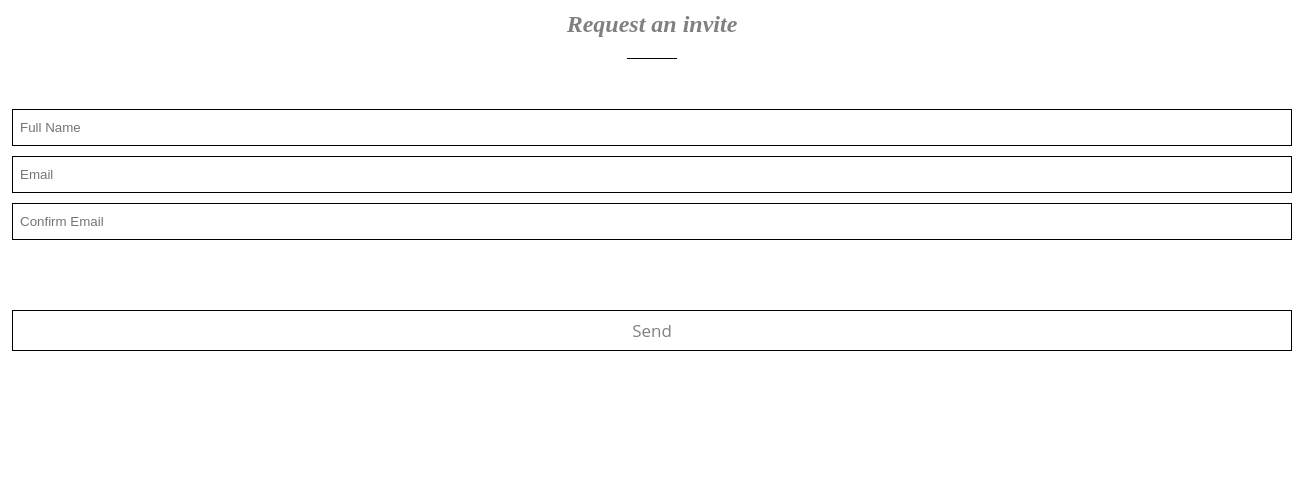
Test: RequestInviteForm › shows error message when name is entered but less than 3 letters
Type "S" into the field with placeholder "Full Name" at (652, 127), box [12, 109, 1292, 146]
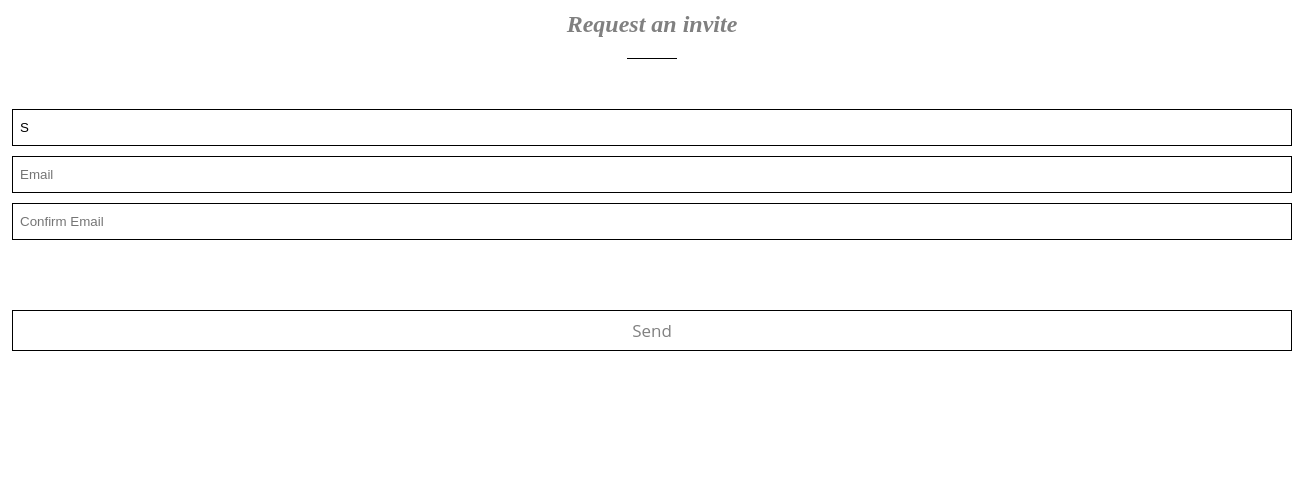
Click the button with test id "submit-button" at (652, 330), box [12, 310, 1292, 351]
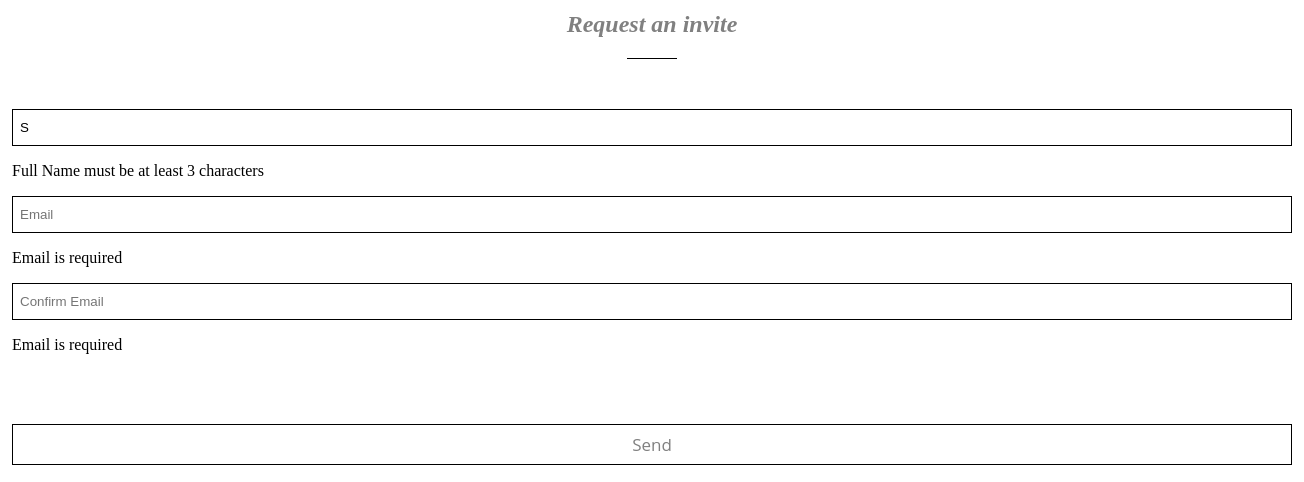
Expected: the text "Full Name must be at least 3 characters" is shown, [12, 162, 264, 179]
